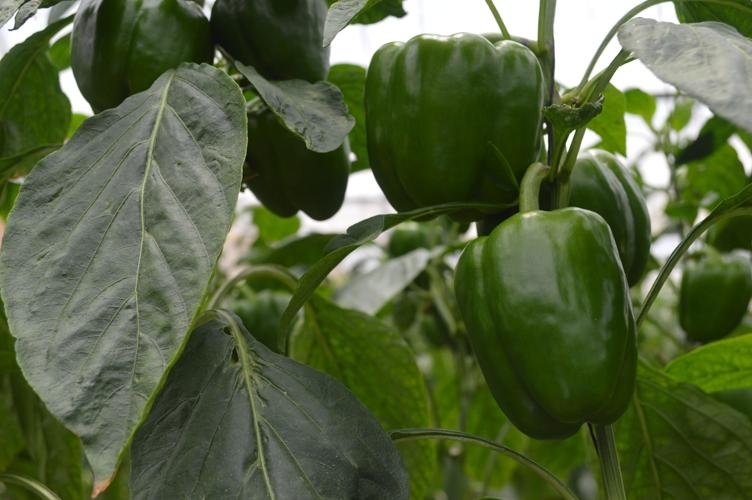BellPepper: (452, 210, 639, 434), (357, 34, 541, 222), (552, 142, 652, 280), (70, 6, 209, 104), (244, 101, 348, 222), (216, 10, 333, 82), (668, 249, 738, 344)
